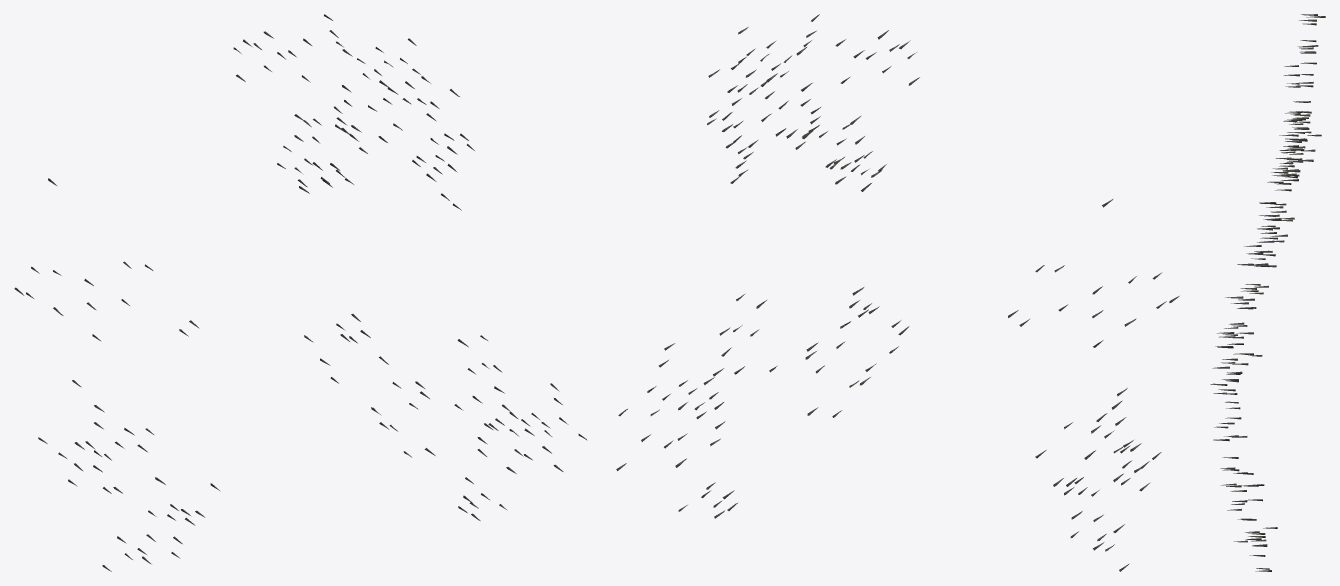
The model's file is stablo_breza.glb.
3 renders of one model, left to right at view 1: azimuth 30°, elevation 25°; view 2: azimuth 150°, elevation 25°; view 3: azimuth 270°, elevation 25°, orthographic. The views are drawn at different scales.
Visible parts, largest first — view 1: Background_Tree_Atlas.004_Trunk_Birch_0; view 2: Background_Tree_Atlas.004_Trunk_Birch_0; view 3: Background_Tree_Atlas.004_Trunk_Birch_0.
Part boxes in pixels (left/top/right/bottom): Background_Tree_Atlas.004_Trunk_Birch_0: left=14, top=14, right=587, bottom=571; Background_Tree_Atlas.004_Trunk_Birch_0: left=616, top=14, right=1179, bottom=571; Background_Tree_Atlas.004_Trunk_Birch_0: left=1210, top=14, right=1325, bottom=571.
Size of the model in its own units: 294 by 266 by 61.1.
Materials: 1 (1 with a texture image).
